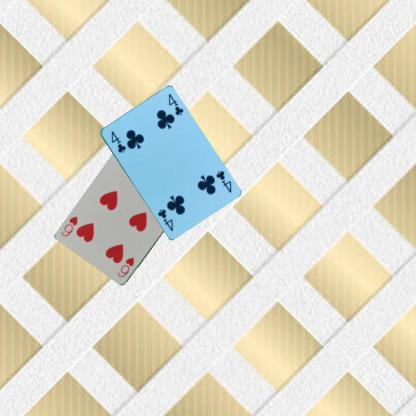4c: (213, 168, 233, 194), (108, 128, 127, 154)
6h: (115, 255, 135, 279)
